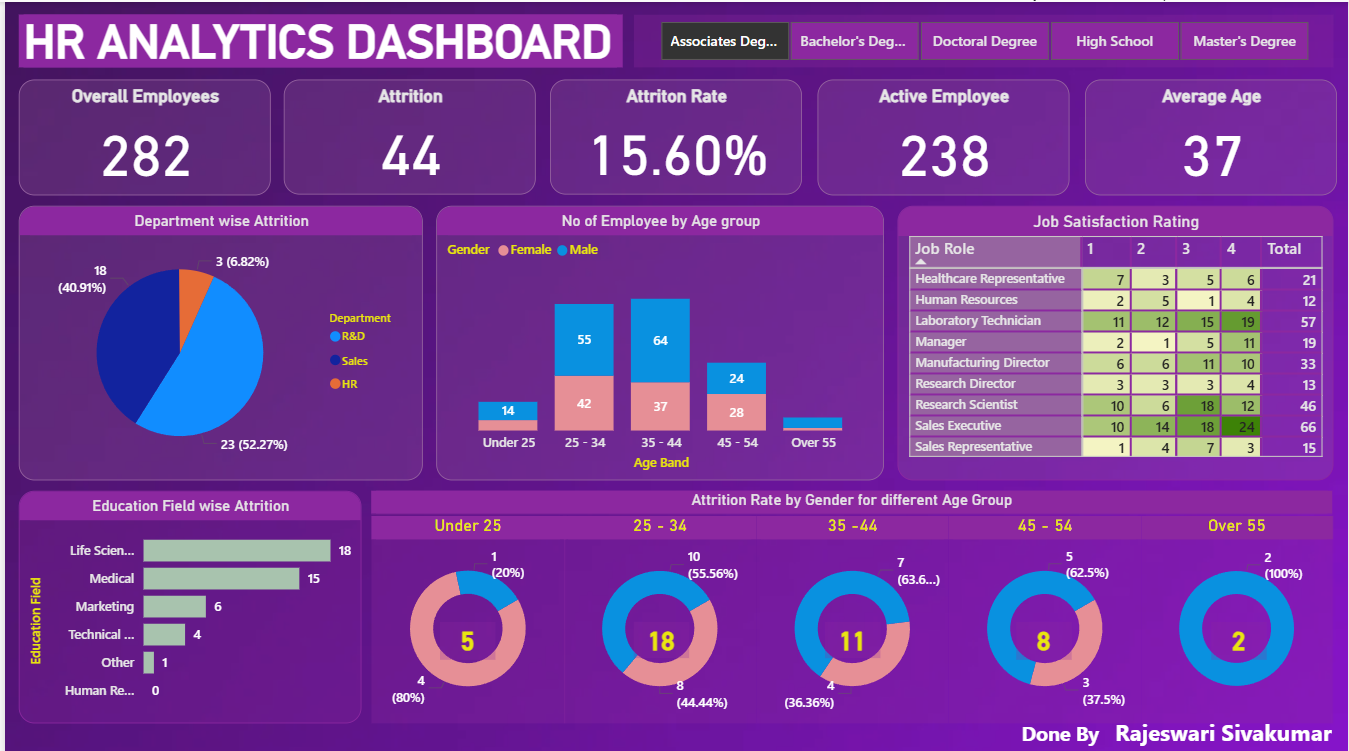

Layout of this report page (visuals, bound fields, positions):
{"tool":"powerbi","page":{"name":"HR Dashboard","canvas":[1280,720],"ordinal":0},"visuals":[{"type":"card","title":"Overall Employees","fields":{"Values":["Sum(HR data.Employee Count)"]},"box":[13.6,73.5,240,110],"z":0},{"type":"card","title":"Attrition","fields":{"Values":["Sum(HR data.Attrition Count)"]},"box":[265.7,73.7,240,109.4],"z":1000},{"type":"card","title":"Attriton Rate","fields":{"Values":["HR data.Attrition Count divided by Employee Count"]},"box":[519.1,73.7,240,109.4],"z":2000},{"type":"card","title":"Active Employee","fields":{"Values":["HR data.Current Employee"]},"box":[773.6,73.7,240,110.5],"z":3000},{"type":"card","title":"Average Age","fields":{"Values":["Avg(HR data.Age)"]},"box":[1028.1,73.7,240,110],"z":4000},{"type":"pieChart","title":"Department wise Attrition","fields":{"Category":["HR data.Department"],"Y":["Sum(HR data.Attrition Count)"]},"box":[13.4,194.2,385.1,261.2],"z":5000},{"type":"barChart","title":"Education Field wise Attrition","fields":{"Category":["HR data.Education Field"],"Y":["Sum(HR data.Attrition Count)"]},"box":[13.1,465.5,326.2,221.4],"z":6000},{"type":"pivotTable","title":"Job Satisfaction Rating","fields":{"Rows":["HR data.Job Role"],"Columns":["HR data.Job Satisfaction"],"Values":["Sum(HR data.Employee Count)"]},"box":[849.5,194.2,415.3,261.2],"z":7000},{"type":"columnChart","title":"No of Employee by Age group","fields":{"Category":["HR data.CF_age band"],"Y":["Sum(HR data.Employee Count)"],"Series":["HR data.Gender"]},"box":[410.8,194.2,426.4,261.2],"z":8000},{"type":"donutChart","title":"Under 25","fields":{"Y":["Sum(HR data.Attrition Count)"],"Series":["HR data.CF_age band"],"Category":["HR data.Gender"]},"box":[348.8,489.3,184.5,197.6],"z":9000},{"type":"card","title":"Under 25","fields":{"Values":["Sum(HR data.Attrition Count)"]},"box":[414.1,590.5,52.5,35.7],"z":10000},{"type":"donutChart","title":"25 - 34","fields":{"Y":["Sum(HR data.Attrition Count)"],"Series":["HR data.CF_age band"],"Category":["HR data.Gender"]},"box":[532.1,489.3,183.3,197.6],"z":11000},{"type":"donutChart","title":"35 -44","fields":{"Y":["Sum(HR data.Attrition Count)"],"Series":["HR data.CF_age band"],"Category":["HR data.Gender"]},"box":[715.5,489.3,183.3,197.6],"z":12000},{"type":"donutChart","title":"45 - 54","fields":{"Y":["Sum(HR data.Attrition Count)"],"Series":["HR data.CF_age band"],"Category":["HR data.Gender"]},"box":[898.8,489.3,183.3,197.6],"z":13000},{"type":"donutChart","title":"Over 55","fields":{"Y":["Sum(HR data.Attrition Count)"],"Series":["HR data.CF_age band"],"Category":["HR data.Gender"]},"box":[1082.1,489.3,182.1,197.6],"z":14000},{"type":"card","title":"Under 25","fields":{"Values":["Sum(HR data.Attrition Count)"]},"box":[598.3,590.5,52.5,34.6],"z":15000},{"type":"card","title":"Under 25","fields":{"Values":["Sum(HR data.Attrition Count)"]},"box":[781.4,590.5,52.5,34.6],"z":16000},{"type":"card","title":"Under 25","fields":{"Values":["Sum(HR data.Attrition Count)"]},"box":[963.3,590.5,52.5,35.7],"z":17000},{"type":"card","title":"Under 25","fields":{"Values":["Sum(HR data.Attrition Count)"]},"box":[1148.7,590.5,52.5,35.7],"z":18000},{"type":"textbox","title":"Attrition Rate by Gender for different Age Group","box":[349.4,465.5,915.3,23.4],"z":19000},{"type":"textbox","title":"HR ANALYTICS DASHBOARD","box":[13.4,12.3,574.9,50.2],"z":20000},{"type":"slicer","fields":{"Values":["HR data.Education"]},"box":[598.8,11.9,666.7,50],"z":21000},{"type":"textbox","box":[963.1,676.2,316.7,44],"z":21001}]}

Visuals, with their boxes in screenshot pixels (x1, y1, x2, y2), scaled from the page's 1280x720 canvas onto the 1349x751 screenshot:
"Overall Employees" card: (14,77,267,191)
"Attrition" card: (280,77,533,191)
"Attriton Rate" card: (547,77,800,191)
"Active Employee" card: (815,77,1068,192)
"Average Age" card: (1084,77,1336,192)
"Department wise Attrition" pieChart: (14,203,420,475)
"Education Field wise Attrition" barChart: (14,486,358,716)
"Job Satisfaction Rating" pivotTable: (895,203,1333,475)
"No of Employee by Age group" columnChart: (433,203,882,475)
"Under 25" donutChart: (368,510,562,716)
"Under 25" card: (436,616,492,653)
"25 - 34" donutChart: (561,510,754,716)
"35 -44" donutChart: (754,510,947,716)
"45 - 54" donutChart: (947,510,1140,716)
"Over 55" donutChart: (1140,510,1332,716)
"Under 25" card: (631,616,686,652)
"Under 25" card: (824,616,879,652)
"Under 25" card: (1015,616,1071,653)
"Under 25" card: (1211,616,1266,653)
"Attrition Rate by Gender for different Age Group" textbox: (368,486,1333,510)
"HR ANALYTICS DASHBOARD" textbox: (14,13,620,65)
slicer - HR data.Education: (631,12,1334,65)
textbox: (1015,705,1348,750)
